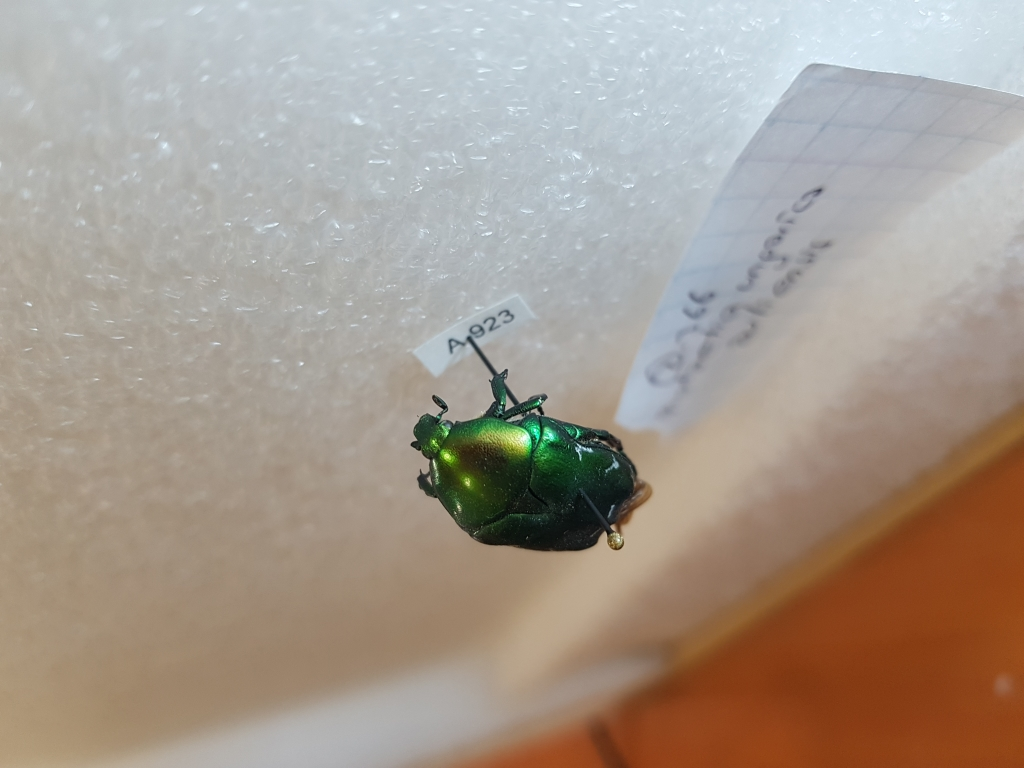Protaetia_ungarica_americana: (401, 365, 665, 558)
